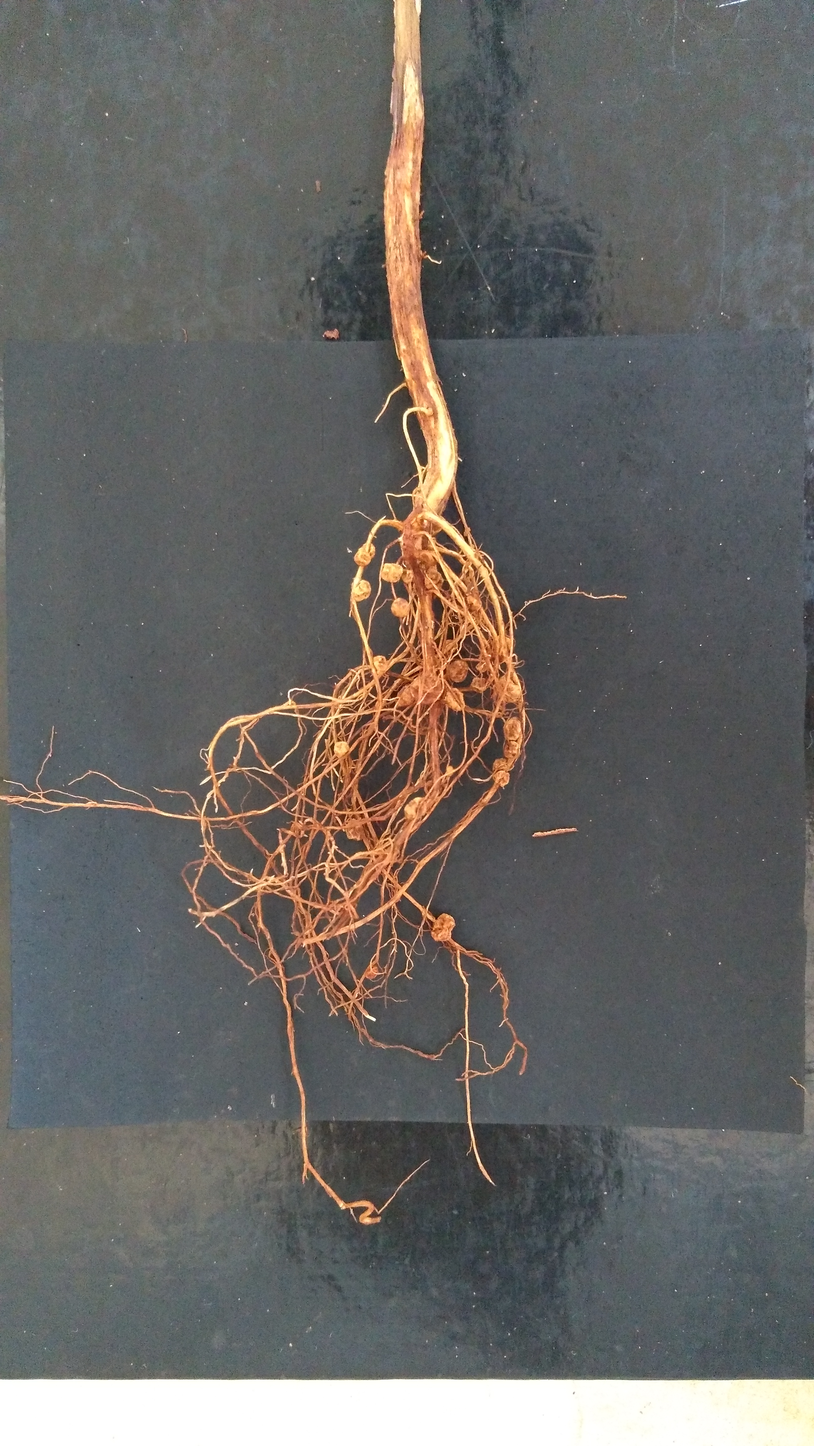nodule: (493, 671, 522, 704), (412, 675, 442, 705), (430, 913, 455, 942), (404, 797, 427, 819), (424, 566, 443, 592), (395, 684, 417, 706), (354, 543, 375, 566), (448, 659, 469, 682), (445, 687, 465, 711), (381, 563, 403, 583), (504, 716, 521, 741), (351, 580, 371, 601), (494, 635, 514, 656), (391, 598, 411, 618), (416, 551, 437, 570), (346, 819, 364, 840), (466, 595, 482, 612), (372, 656, 386, 675), (471, 677, 487, 693), (504, 741, 519, 758), (493, 771, 509, 786), (335, 741, 349, 757), (476, 659, 491, 672), (365, 964, 378, 979), (401, 569, 414, 583), (443, 640, 457, 653), (492, 758, 507, 770), (427, 537, 436, 550), (447, 765, 454, 776), (426, 407, 433, 416), (464, 528, 470, 536), (470, 544, 475, 548)
